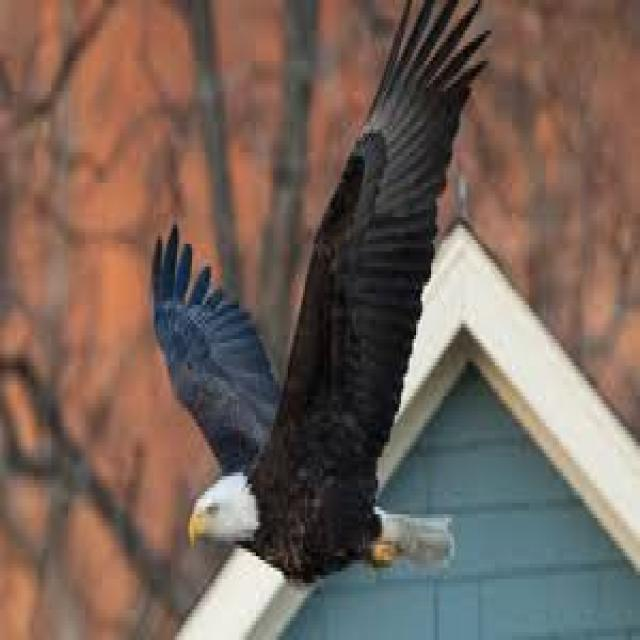Eagle: (151, 6, 460, 580)
